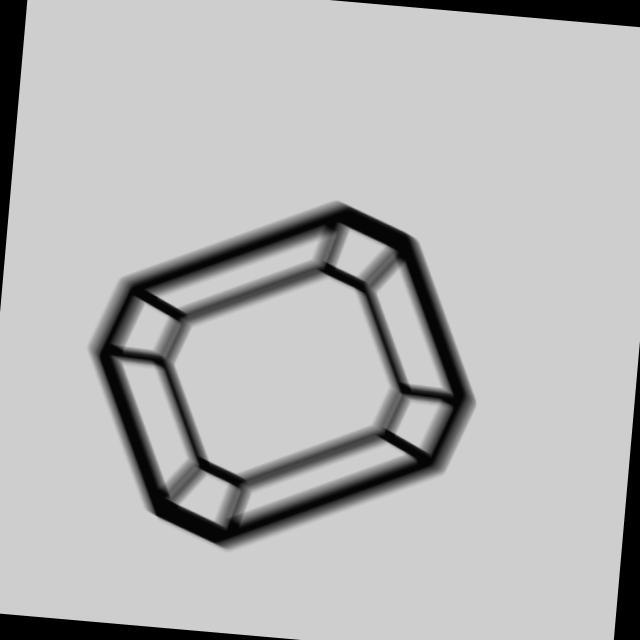emerald: (64, 172, 501, 582)
